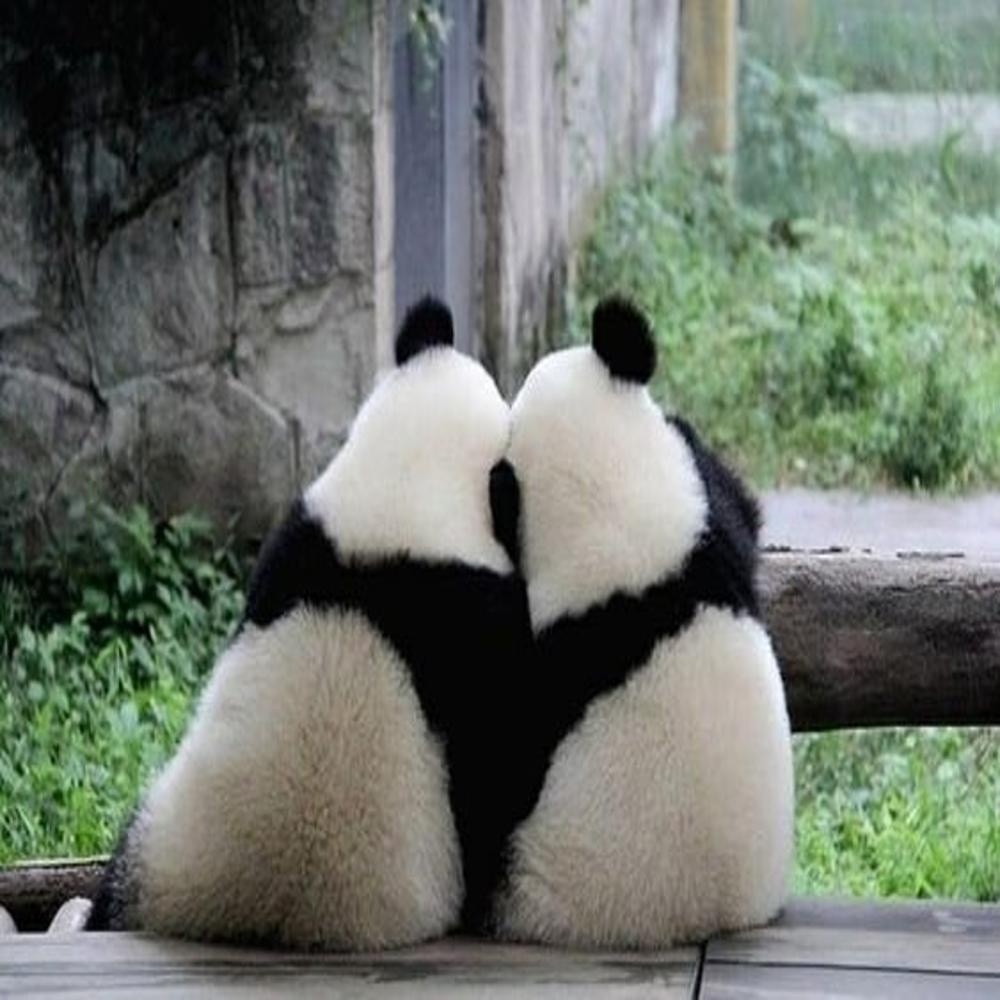panda: (490, 254, 810, 979)
